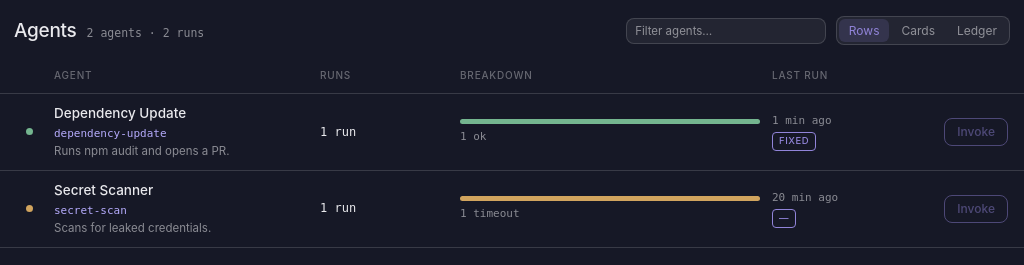
Scenario: dashboard — filter (AC-107.8, EC-25) › narrows the list by name, case-insensitively, in dense rows
In the search field labelled "Filter agents…": (726, 31) [626,18,826,44], type "SECRET"
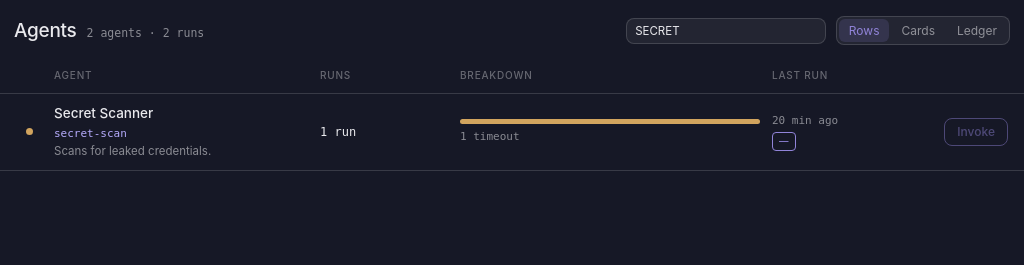
expect the link "Secret Scanner" is shown: met, box [54,105,153,121]
expect the link "Dependency Update" is gone: met
